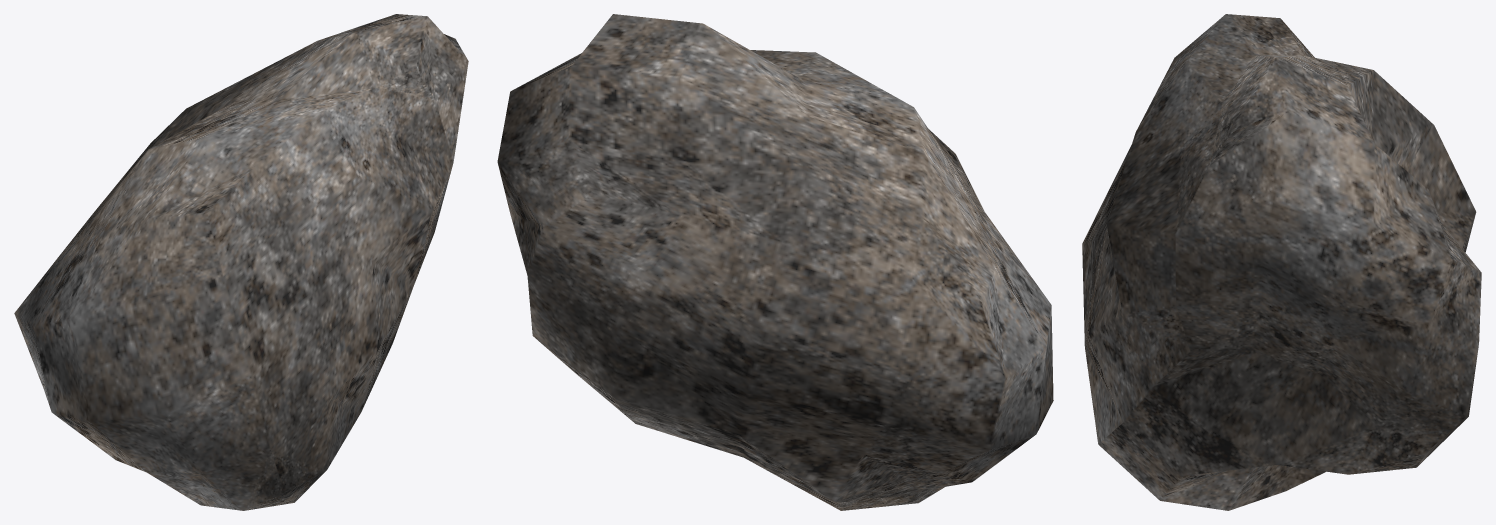
File: rock3.fbx
The picture shows the model from 3 angles, left to right: view 1: azimuth 30°, elevation 25°; view 2: azimuth 150°, elevation 25°; view 3: azimuth 270°, elevation 25°; orthographic projection. The views are drawn at different scales.
Parts seen in each view (by area): view 1: Cube.003; view 2: Cube.003; view 3: Cube.003.
Part boxes in pixels (x1,y1,x2,y2): Cube.003: (14,14,468,510); Cube.003: (497,14,1053,510); Cube.003: (1082,14,1481,510).
Size of the model in its own units: 333 by 295 by 203.
Materials: 1 (1 with a texture image).
